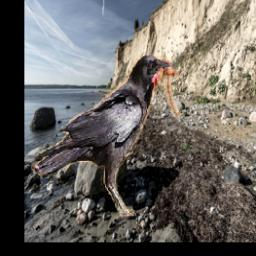Crow: (32, 49, 187, 217)
